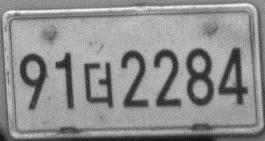1: (49, 50, 81, 111)
2: (151, 47, 183, 108), (119, 48, 150, 110)
4: (216, 46, 249, 106)
8: (185, 47, 215, 107)
9: (18, 52, 48, 112)
더: (82, 61, 115, 110)
